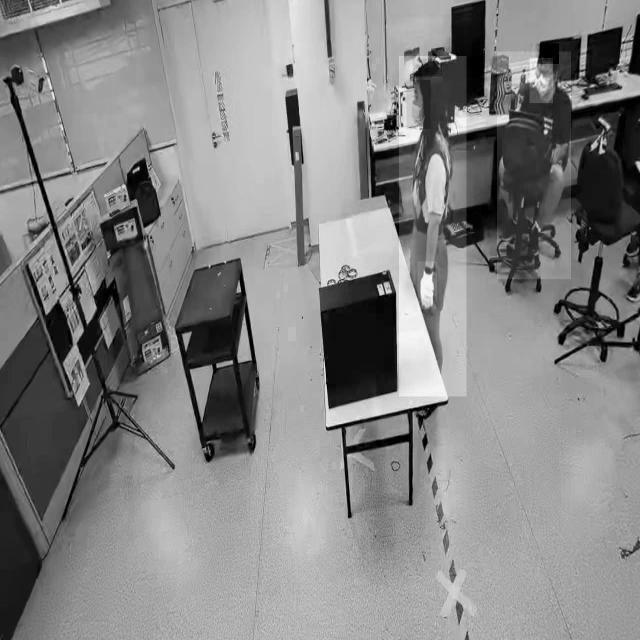face_mask: (406, 80, 431, 129), (529, 58, 553, 104)
hand_glove: (417, 262, 437, 310)
head_nohelmet: (412, 59, 442, 77), (537, 43, 559, 65)
person: (398, 56, 466, 397), (497, 52, 571, 280)
